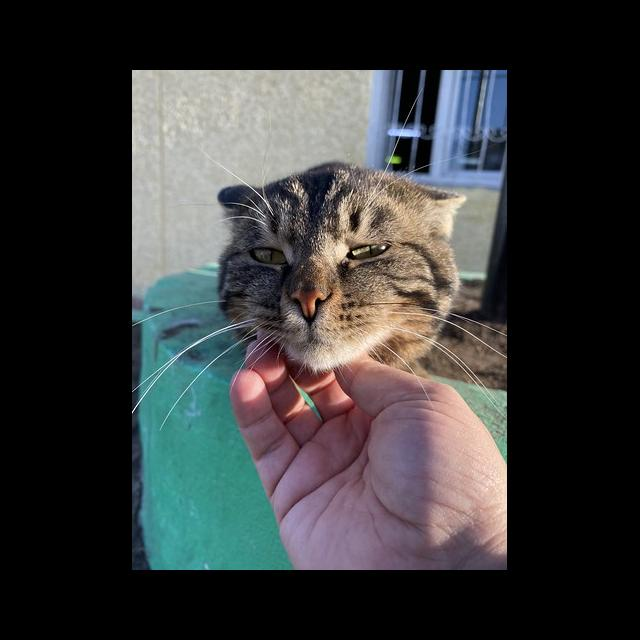animals: (219, 163, 466, 370)
